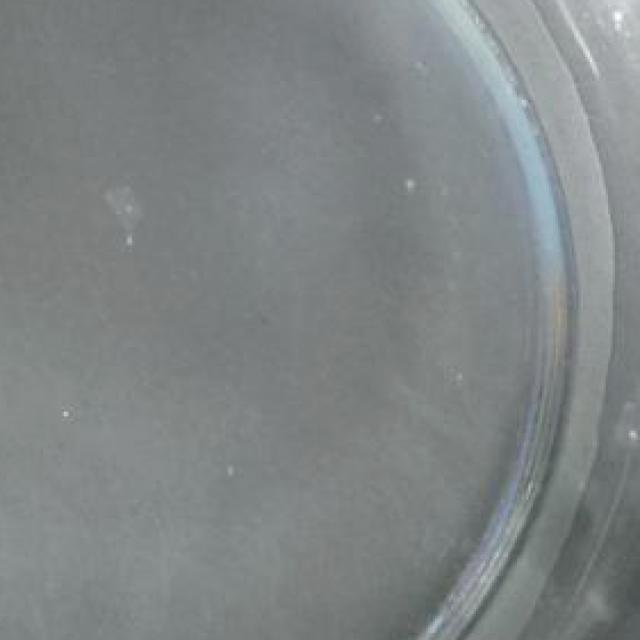Microplastic: (606, 347, 640, 488), (100, 178, 150, 252)
